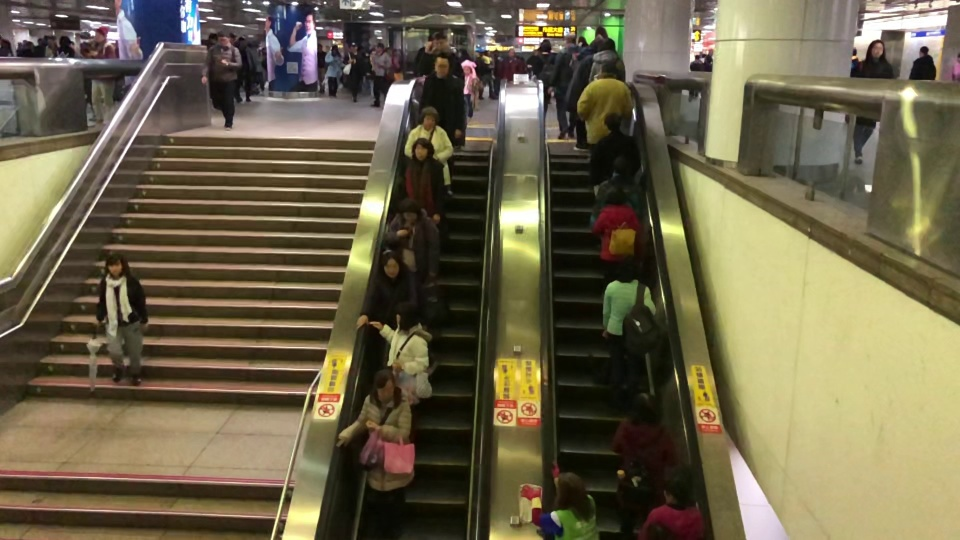person_head: (555, 471, 588, 511), (660, 468, 693, 505), (629, 391, 662, 423), (372, 368, 397, 401), (394, 300, 419, 329), (105, 250, 128, 278), (409, 137, 435, 161), (380, 250, 401, 277), (617, 257, 638, 281), (400, 198, 421, 220), (419, 105, 439, 127), (605, 186, 626, 205), (602, 111, 621, 131), (434, 52, 450, 75), (612, 157, 631, 175), (868, 39, 886, 56), (599, 59, 615, 75), (94, 25, 109, 42), (432, 33, 448, 48), (216, 31, 230, 44), (539, 38, 551, 53), (564, 32, 577, 45), (601, 38, 614, 50), (459, 47, 469, 60), (58, 35, 70, 45), (918, 45, 929, 55), (704, 53, 711, 63), (331, 44, 338, 53), (351, 42, 357, 52), (376, 42, 382, 52), (316, 44, 323, 52), (508, 47, 513, 56), (852, 47, 857, 55), (694, 54, 699, 58)
person_vbox: (335, 369, 416, 539), (609, 391, 679, 536), (601, 258, 656, 408), (94, 250, 148, 387), (418, 52, 464, 196), (518, 462, 598, 540), (850, 39, 894, 167), (355, 250, 423, 332), (636, 467, 704, 540), (576, 59, 633, 146), (592, 186, 645, 277), (368, 300, 432, 375), (201, 30, 244, 131), (388, 198, 441, 277), (404, 105, 454, 187), (399, 137, 446, 223), (589, 157, 644, 230), (589, 111, 640, 188), (85, 25, 118, 122), (552, 32, 577, 139), (415, 33, 464, 80), (458, 45, 480, 122), (532, 38, 554, 112), (588, 37, 623, 81), (371, 42, 392, 109), (343, 42, 366, 103), (324, 43, 343, 98), (908, 45, 936, 81), (499, 46, 522, 80), (688, 53, 701, 101), (53, 36, 79, 59), (316, 45, 326, 93), (701, 52, 711, 71), (849, 46, 858, 66)
